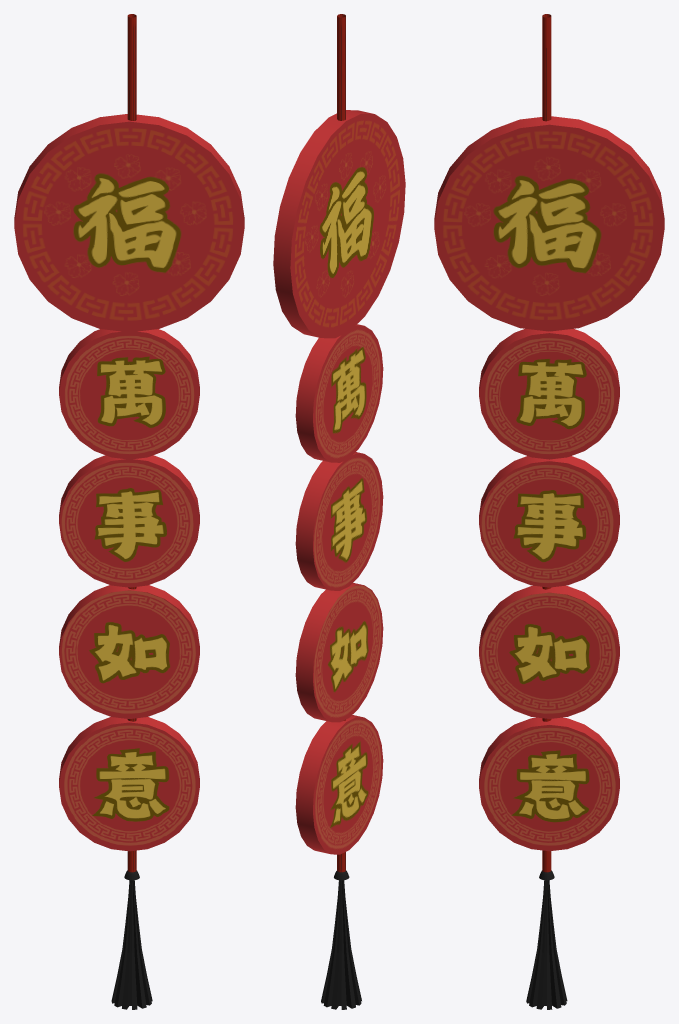
File: Deco.fbx
3 views of the same model, side by side, from view 1: azimuth 90°, elevation 25°; view 2: azimuth 150°, elevation 25°; view 3: azimuth 270°, elevation 25° (orthographic).
Visible parts, largest first — view 1: pCylinder52, pCylinder56, pCylinder55, pCylinder54, pCylinder53, pSphere7; view 2: pCylinder52, pCylinder56, pCylinder55, pCylinder54, pCylinder53, pSphere7; view 3: pCylinder52, pCylinder56, pCylinder55, pCylinder54, pCylinder53, pSphere7.
Part boxes in pixels (x1=…): pCylinder52: x1=14, y1=114, x2=244, y2=332; pCylinder56: x1=59, y1=717, x2=199, y2=851; pCylinder55: x1=59, y1=585, x2=199, y2=718; pCylinder54: x1=59, y1=455, x2=199, y2=587; pCylinder53: x1=59, y1=329, x2=199, y2=459; pSphere7: x1=111, y1=14, x2=152, y2=1009; pCylinder52: x1=273, y1=110, x2=405, y2=338; pCylinder56: x1=295, y1=715, x2=383, y2=854; pCylinder55: x1=295, y1=583, x2=383, y2=722; pCylinder54: x1=295, y1=452, x2=383, y2=590; pCylinder53: x1=295, y1=324, x2=383, y2=462; pSphere7: x1=321, y1=14, x2=361, y2=1009; pCylinder52: x1=434, y1=116, x2=664, y2=331; pCylinder56: x1=479, y1=717, x2=619, y2=851; pCylinder55: x1=479, y1=585, x2=619, y2=718; pCylinder54: x1=479, y1=456, x2=619, y2=587; pCylinder53: x1=479, y1=328, x2=619, y2=459; pSphere7: x1=526, y1=14, x2=567, y2=1009.
Size of the model in its own units: 10.36 by 274 by 57.93.
